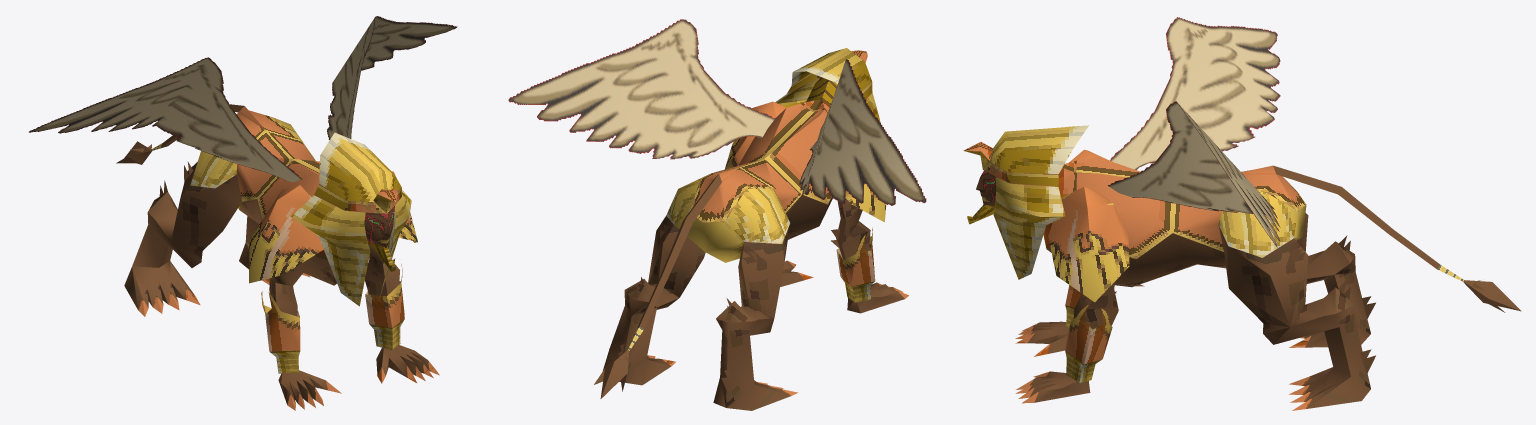
3 views of the same model, side by side, from view 1: azimuth 30°, elevation 25°; view 2: azimuth 150°, elevation 25°; view 3: azimuth 270°, elevation 25° (orthographic). The views are drawn at different scales.
Parts seen in each view (by area): view 1: realb56_4, realb56_6, realb56_5, realb56_3, realb56_1, realb56_2, realb56; view 2: realb56_4, realb56_6, realb56_3, realb56_5, realb56_1, realb56_2; view 3: realb56_6, realb56_4, realb56_5, realb56_3, realb56_1, realb56_2, realb56.
Boxes of the visible parts, left/top/right/bottom form: realb56_4: left=29, top=16, right=457, bottom=181; realb56_6: left=116, top=104, right=429, bottom=404; realb56_5: left=150, top=117, right=411, bottom=373; realb56_3: left=138, top=106, right=439, bottom=410; realb56_1: left=249, top=171, right=417, bottom=283; realb56_2: left=261, top=258, right=404, bottom=351; realb56: left=364, top=206, right=394, bottom=248; realb56_4: left=508, top=19, right=926, bottom=205; realb56_6: left=594, top=174, right=904, bottom=410; realb56_3: left=647, top=50, right=908, bottom=395; realb56_5: left=627, top=48, right=880, bottom=350; realb56_1: left=725, top=101, right=886, bottom=222; realb56_2: left=836, top=227, right=875, bottom=286; realb56_6: left=1027, top=165, right=1521, bottom=408; realb56_4: left=1108, top=17, right=1280, bottom=247; realb56_5: left=963, top=125, right=1463, bottom=383; realb56_3: left=964, top=142, right=1312, bottom=410; realb56_1: left=1048, top=149, right=1129, bottom=302; realb56_2: left=1065, top=285, right=1112, bottom=364; realb56: left=976, top=170, right=996, bottom=206.
Size of the model in its own units: 16.84 by 10.86 by 17.63.
Materials: 7 (7 with a texture image).
